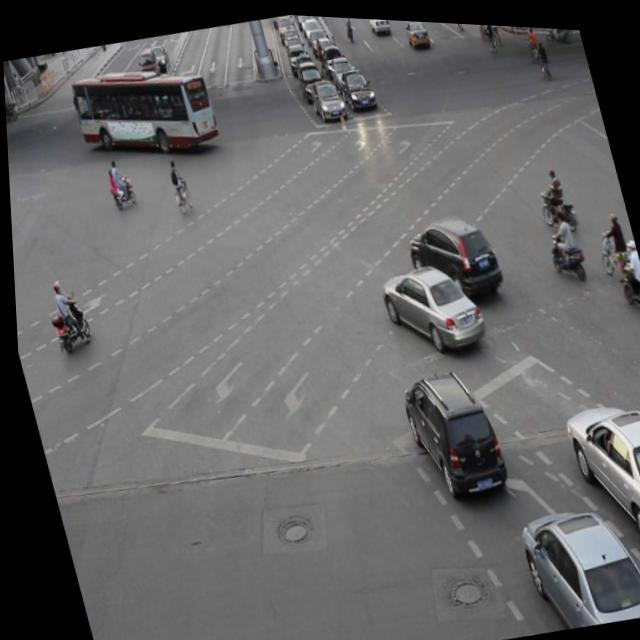car: (508, 483, 640, 632), (390, 355, 506, 500), (554, 378, 640, 561), (374, 248, 485, 356), (398, 200, 504, 304)
